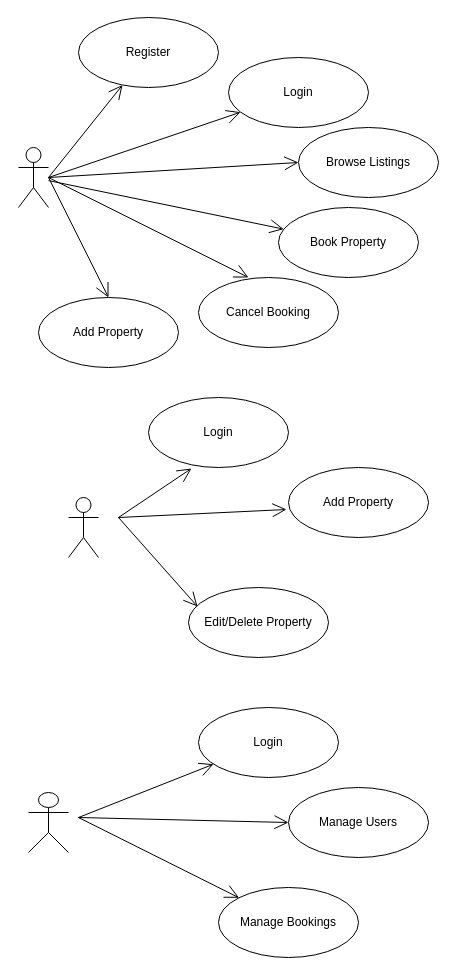
Image size: 456x975. Some labels were removed from this diagram. The shapes that lost their labels are listed below. From the top down, each one's box as (x1, y1, x2, y2) in pixels, then its label:
(18, 146, 48, 208): Guest
(68, 496, 98, 558): Host
(28, 792, 68, 852): Admin
